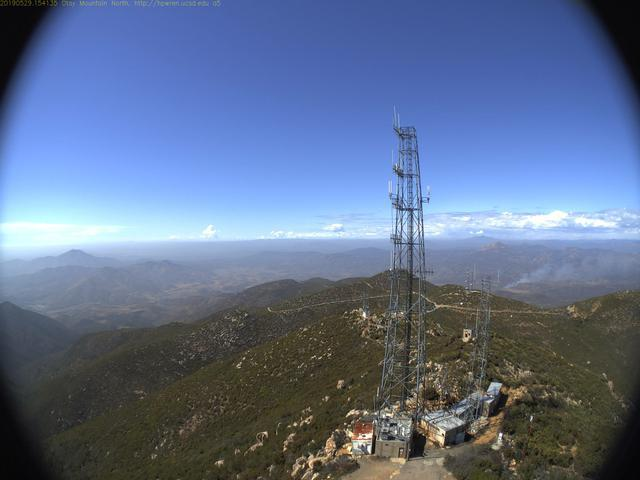smoke: (496, 252, 638, 292)
